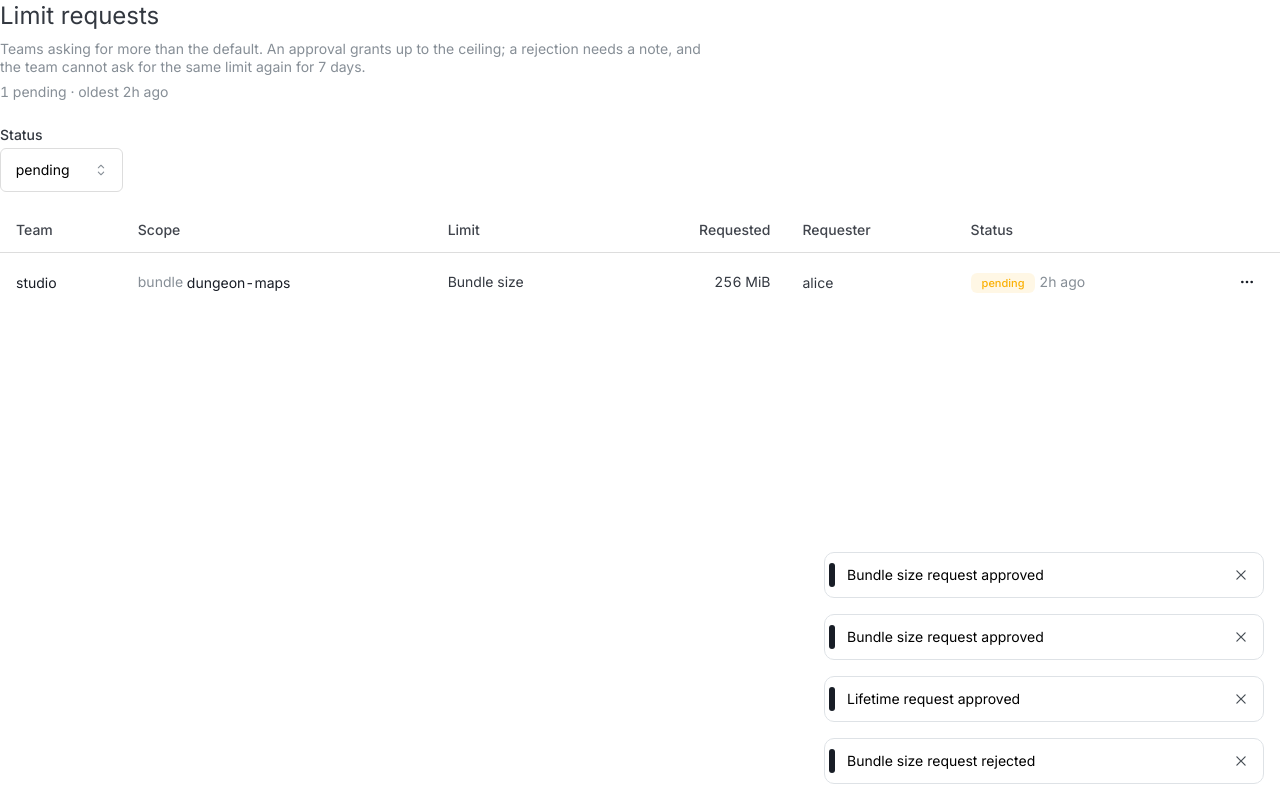
Scenario: LimitRequestsPage › filters by status and pages with Load more
expect the link "dungeon-maps" is shown: met, box [187,274,290,292]
Select "approved" in the dropdown labelled "Status" at (61, 170), box [0,148,123,192]
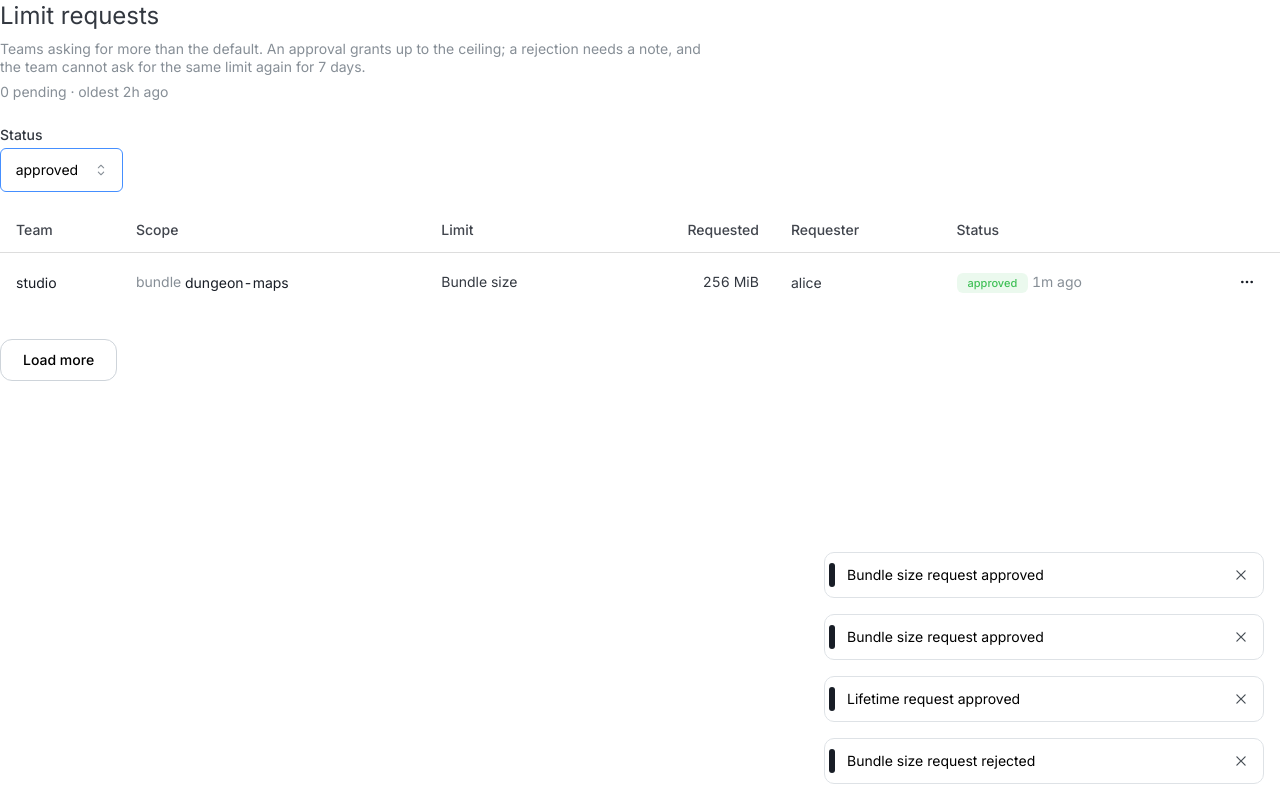
expect the text "approved" is shown: met, box [968,274,1017,292]
Click the button "Load more" at (59, 360), box [0,339,117,381]
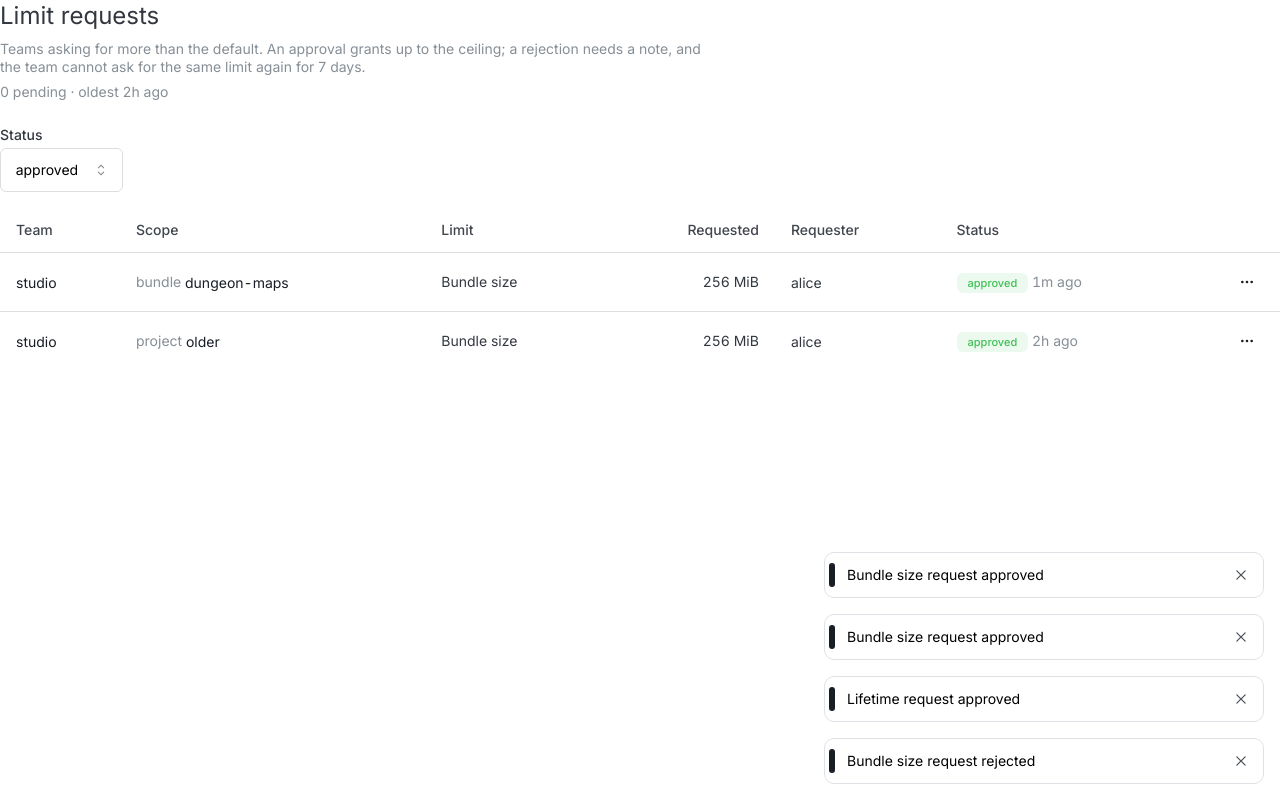
expect the link "older" is shown: met, box [186,333,220,351]
Click the button named "Actions for Bundle size of dungeon-maps" at (1247, 282), box [1230,265,1264,299]
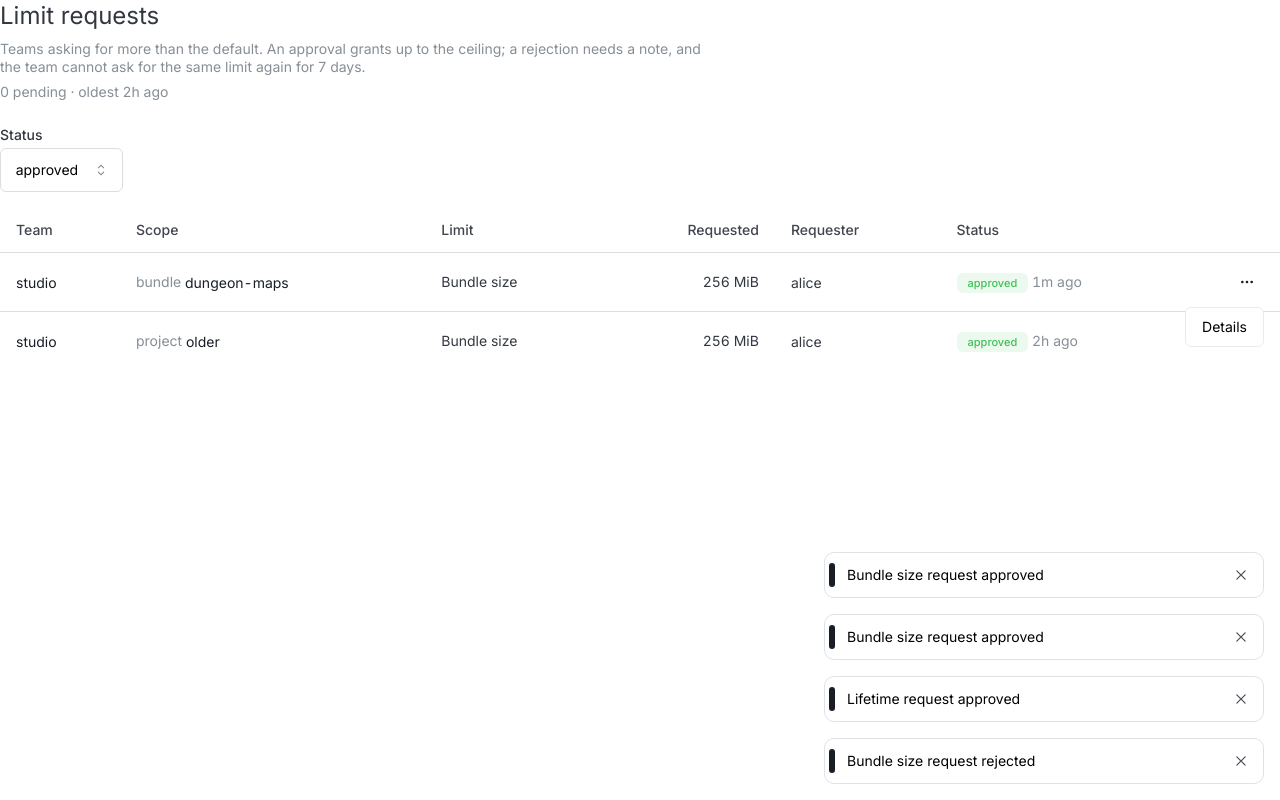
Click the menu item "Details" at (1224, 327), box [1190,312,1259,342]
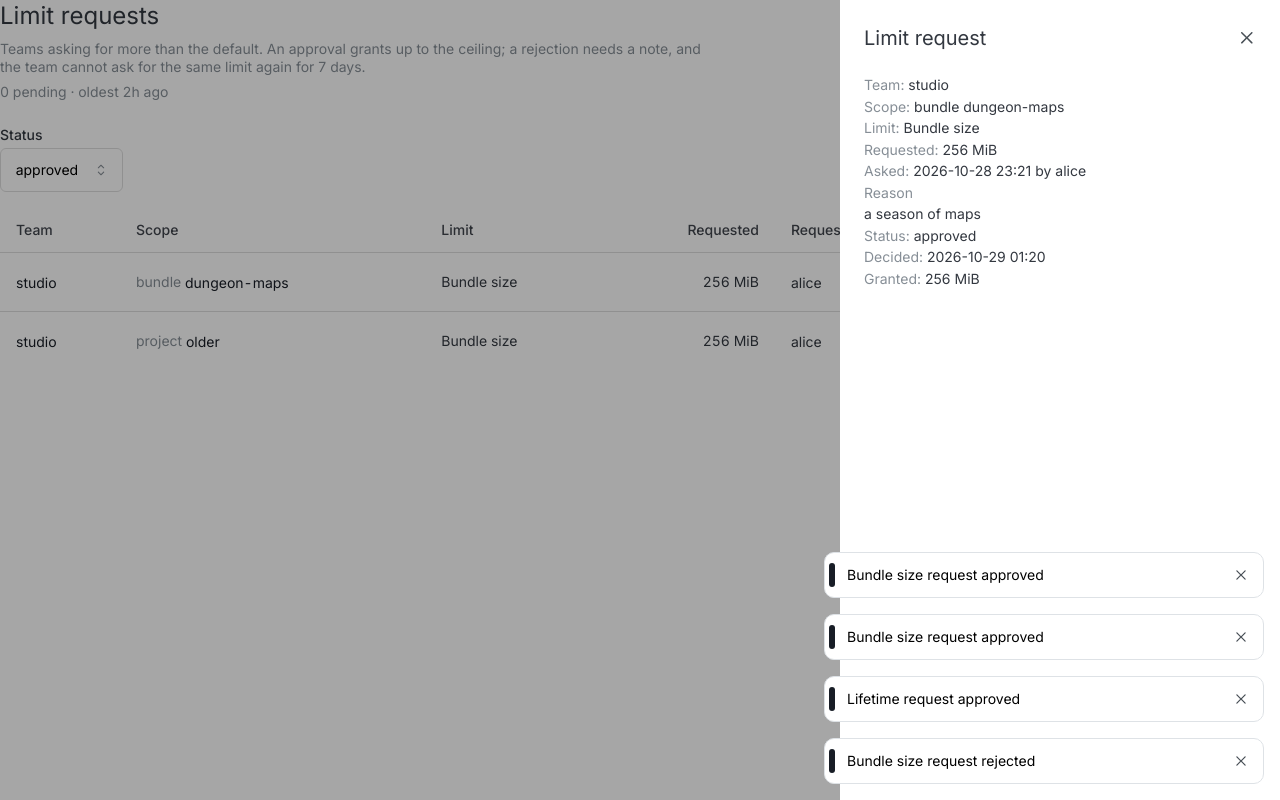
expect the text "a season of maps" is shown: met, box [864,205,981,222]
expect the text "256 MiB" is shown 2 times: met, box [864,140,997,158]; [864,270,980,286]
